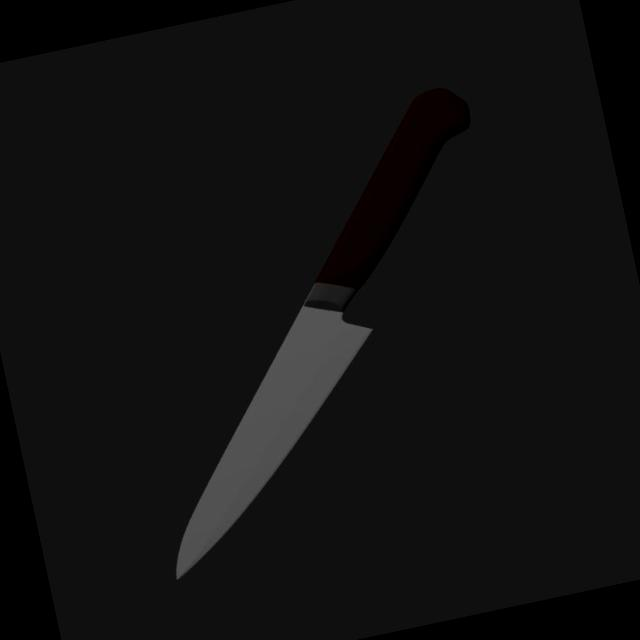knife: (280, 82, 500, 297)
